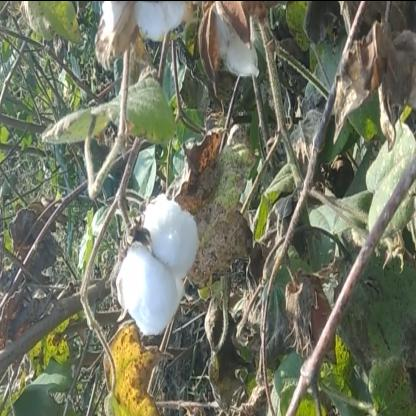cotton_ready: (122, 190, 197, 320)
